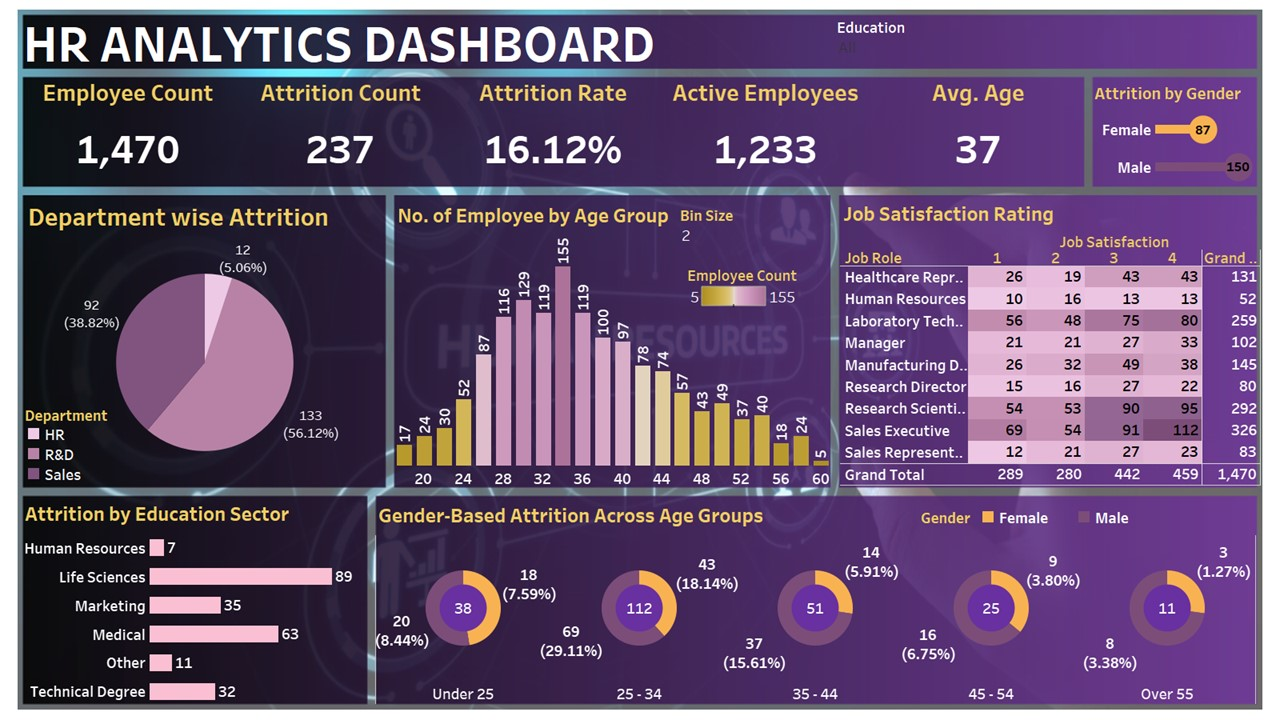

The dashboard page shown, as its layout file describes it:
{"tool":"tableau","page":{"name":"HR Analytics Dashboard","canvas":[1580,900],"ordinal":0},"visuals":[{"type":"image","param":"C:/Users/lenovo/Downloads/HR background.pptx.png","box":[8,8,1564,884]},{"type":"text","box":[15,16,987,72]},{"type":"filter","title":"Department wise Attrition","param":"[federated.1c8d0pz1lxgwsv1fo5sjd030278e].[none:Education:nk]","box":[1036,20,230,65]},{"type":"worksheet","title":"KPI","mark":"Automatic","box":[17,94,1329,142]},{"type":"worksheet","title":"Attrition by Gender","mark":"Automatic","rows":["Gender"],"cols":["Calculation_118782495527940096","Calculation_118782495527940096"],"box":[1354,96,207,136]},{"type":"worksheet","title":"Department wise Attrition","mark":"Pie","box":[21,243,450,364]},{"type":"worksheet","title":"Job Satisfaction Rating","mark":"Square","rows":["Job Role"],"cols":["Job Satisfaction"],"box":[1040,244,526,363]},{"type":"worksheet","title":"No. of Employee by Age Group","mark":"Automatic","rows":["Employee Count"],"cols":["Age (bin)"],"box":[483,246,546,365]},{"type":"parameter","param":"[Parameters].[Parameter 1]","box":[840,255,183,49]},{"type":"legend","title":"No. of Employee by Age Group","param":"[federated.1c8d0pz1lxgwsv1fo5sjd030278e].[sum:Employee Count:qk]","box":[849,327,140,100]},{"type":"legend","title":"Department wise Attrition","param":"[federated.1c8d0pz1lxgwsv1fo5sjd030278e].[none:Department:nk]","box":[20,504,140,101]},{"type":"worksheet","title":"Attrition by Education Sector","mark":"Automatic","rows":["Education Field"],"cols":["Calculation_118782495527940096"],"box":[17,619,431,263]},{"type":"worksheet","title":"Gender-Based Attrition Across Age Groups","mark":"Pie","rows":["Calculation_844987935516352513","Calculation_844987935516352513"],"cols":["CF_age band"],"box":[459,621,1101,260]},{"type":"legend","title":"Gender-Based Attrition Across Age Groups","param":"[federated.1c8d0pz1lxgwsv1fo5sjd030278e].[none:Gender:nk]","box":[1141,634,393,48]}]}

Visuals, with their boxes in screenshot pixels (x1, y1, x2, y2), scaled from the page's 1580x900 canvas onto the 1280x720 screenshot:
image: rect(6, 6, 1274, 714)
text: rect(12, 13, 812, 70)
"Department wise Attrition" filter: rect(839, 16, 1026, 68)
"KPI" worksheet: rect(14, 75, 1090, 189)
"Attrition by Gender" worksheet: rect(1097, 77, 1265, 186)
"Department wise Attrition" worksheet (Pie marks): rect(17, 194, 382, 486)
"Job Satisfaction Rating" worksheet (Square marks): rect(843, 195, 1269, 486)
"No. of Employee by Age Group" worksheet: rect(391, 197, 834, 489)
parameter: rect(681, 204, 829, 243)
"No. of Employee by Age Group" legend: rect(688, 262, 801, 342)
"Department wise Attrition" legend: rect(16, 403, 130, 484)
"Attrition by Education Sector" worksheet: rect(14, 495, 363, 706)
"Gender-Based Attrition Across Age Groups" worksheet (Pie marks): rect(372, 497, 1264, 705)
"Gender-Based Attrition Across Age Groups" legend: rect(924, 507, 1243, 546)
